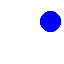circle: (40, 11, 60, 31)
